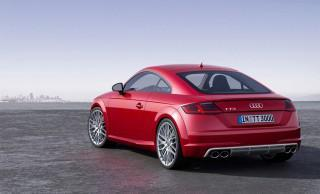Audi: (246, 99, 268, 113)
